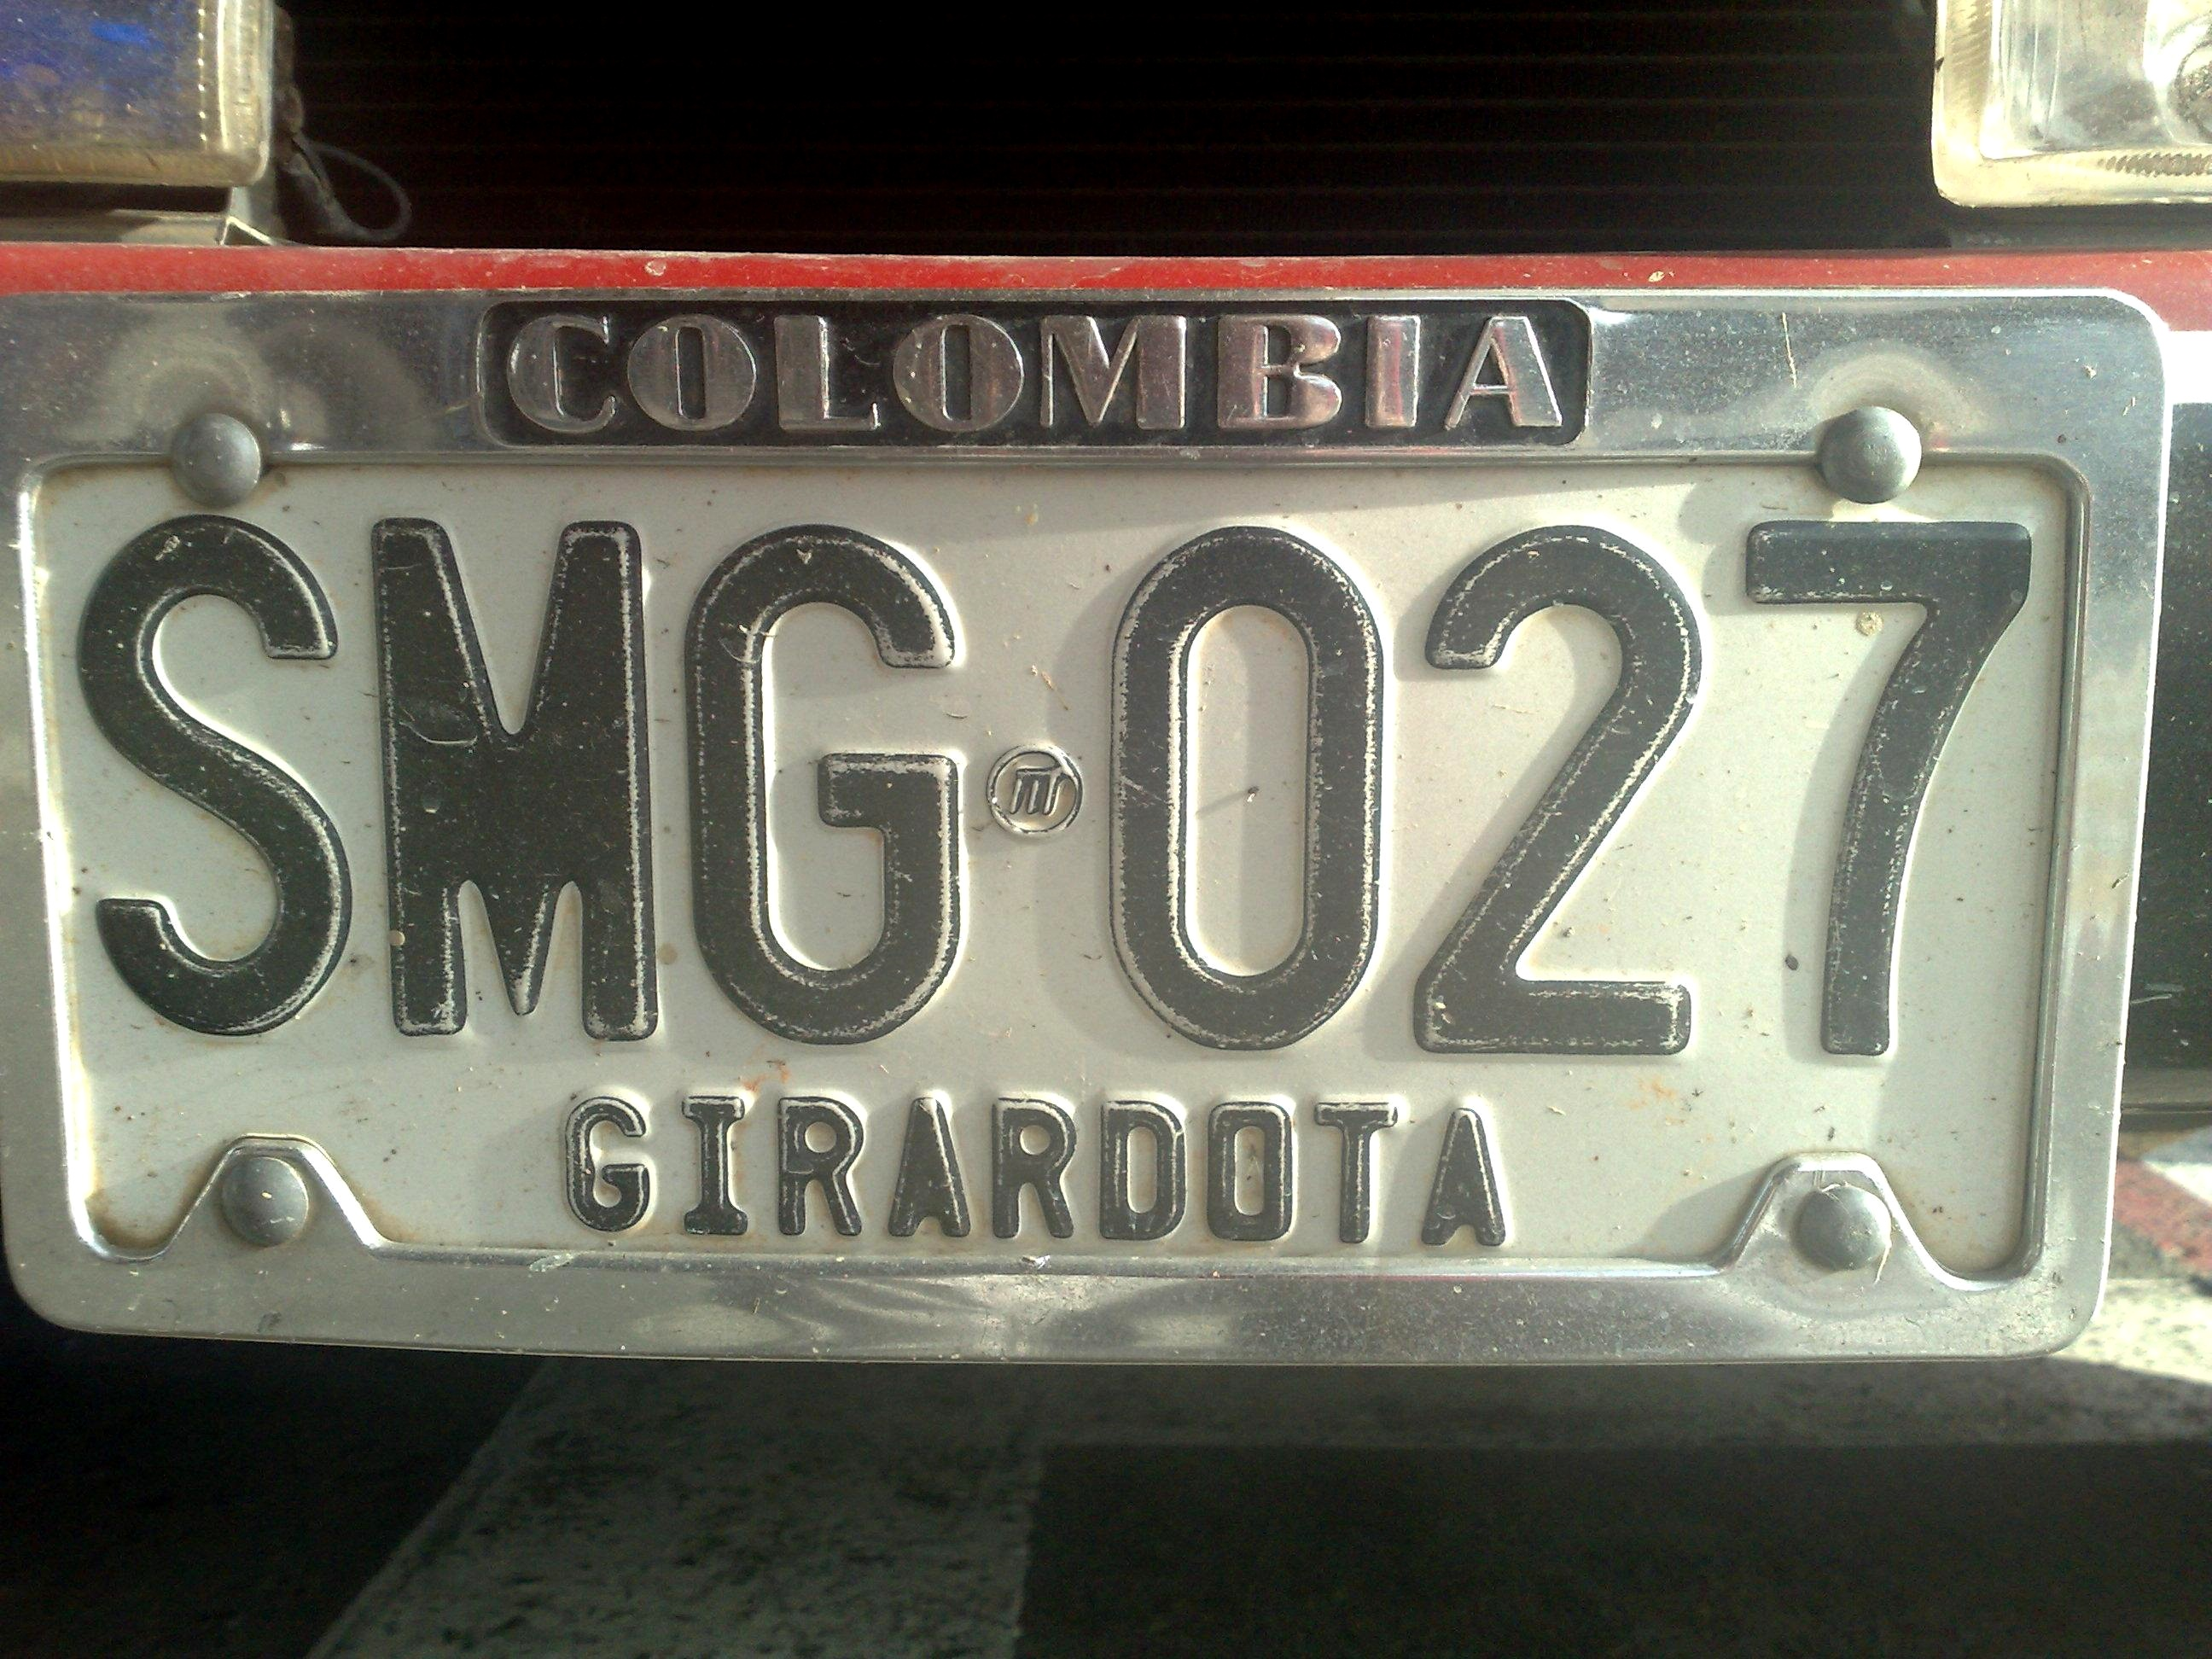placas: (15, 432, 2109, 1314)
